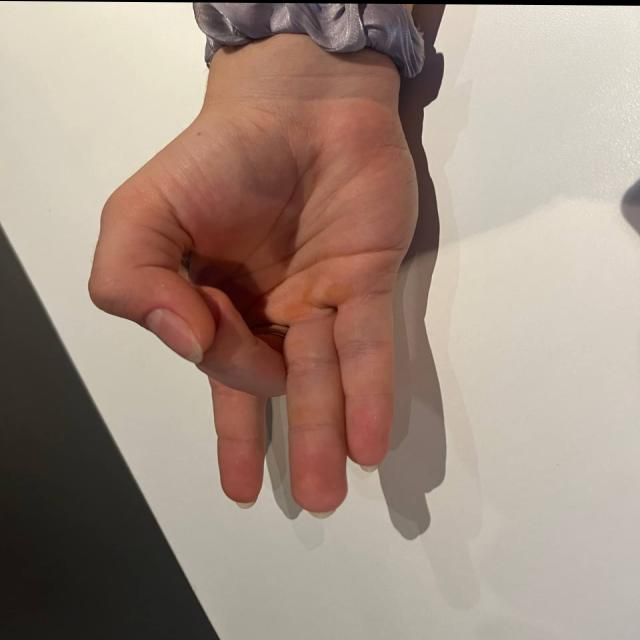r: (85, 99, 455, 528)
